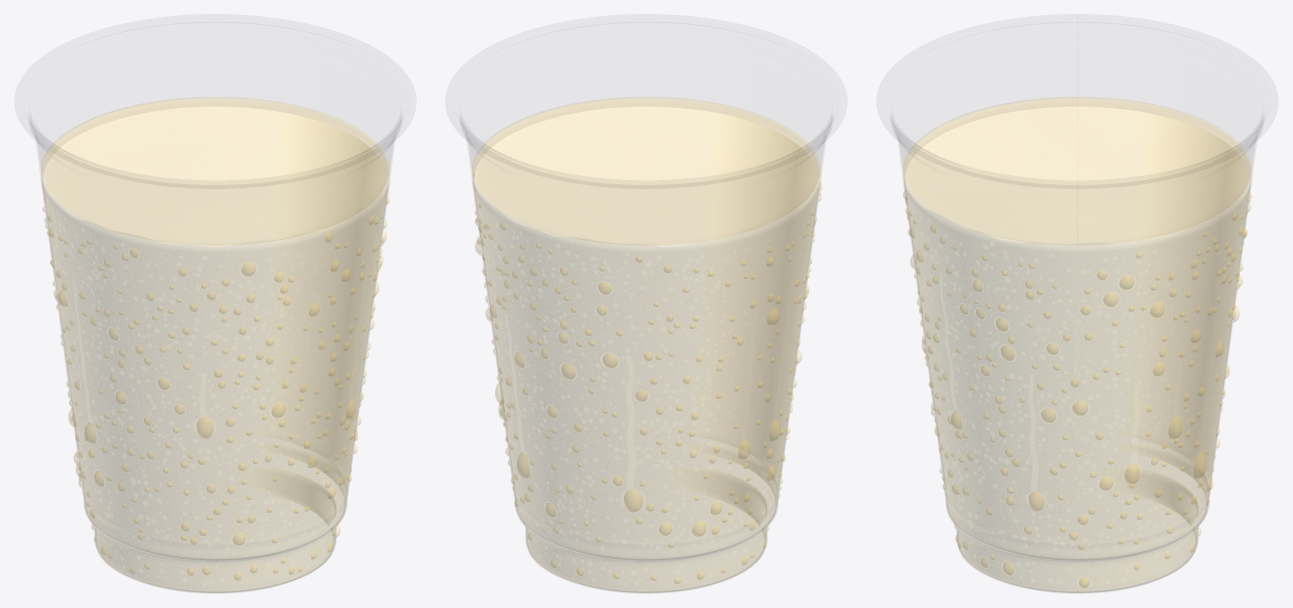
The model's file is blender_juice_cup_m.glb.
The picture shows the model from 3 angles, left to right: view 1: azimuth 30°, elevation 25°; view 2: azimuth 150°, elevation 25°; view 3: azimuth 270°, elevation 25°; orthographic projection.
Parts seen in each view (by area): view 1: Juice, Liner, Droplets, Cup_PET; view 2: Juice, Liner, Droplets, Cup_PET; view 3: Juice, Liner, Droplets, Cup_PET.
Boxes of the visible parts, left/top/right/bottom form: Juice: left=41, top=97, right=389, bottom=592; Liner: left=43, top=106, right=387, bottom=591; Droplets: left=42, top=197, right=389, bottom=580; Cup_PET: left=28, top=22, right=402, bottom=188; Juice: left=472, top=97, right=820, bottom=592; Liner: left=474, top=106, right=818, bottom=591; Droplets: left=473, top=174, right=821, bottom=583; Cup_PET: left=459, top=22, right=833, bottom=188; Juice: left=903, top=97, right=1251, bottom=592; Liner: left=905, top=106, right=1249, bottom=591; Droplets: left=903, top=190, right=1251, bottom=587; Cup_PET: left=890, top=22, right=1264, bottom=188.
Size of the model in its own units: 0.0978 by 0.12 by 0.0978.
5 materials, 2 textured.
